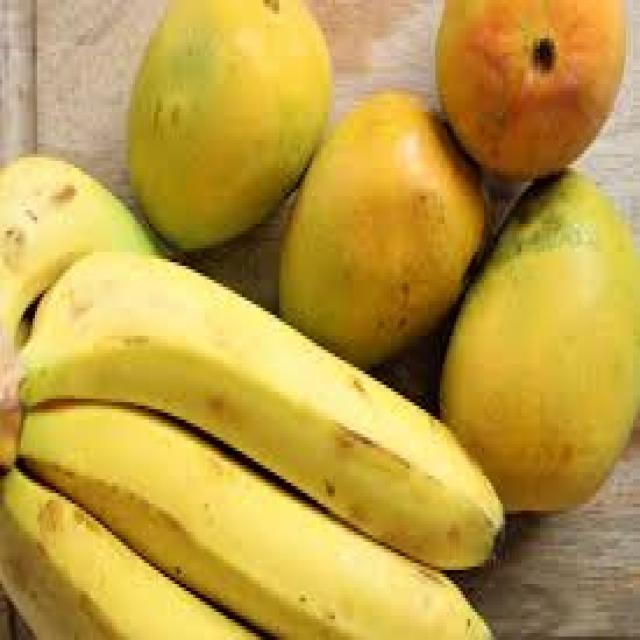Banana: (0, 157, 510, 640)
Mango: (441, 168, 638, 513), (280, 88, 490, 372), (126, 4, 334, 252), (435, 0, 629, 181)
